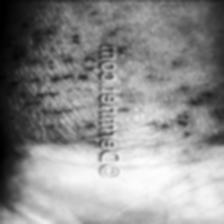Non-Cancerous Skin Condition: (5, 14, 96, 148), (127, 62, 218, 146)
